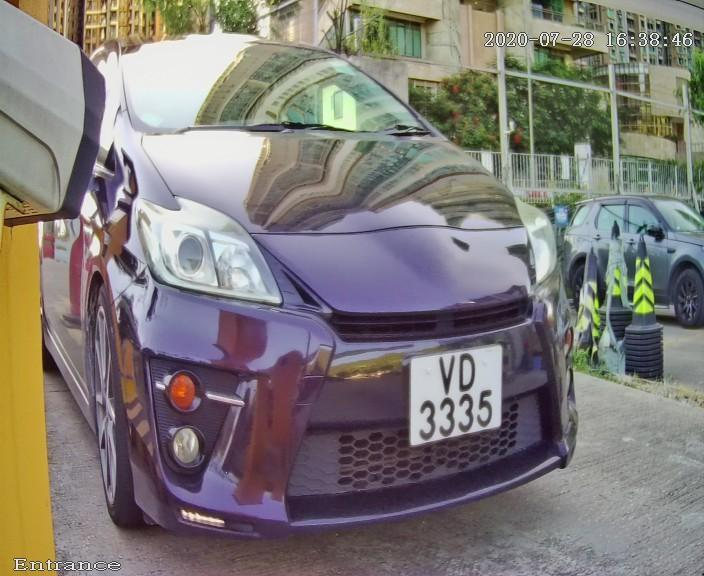privatecar: (48, 21, 626, 559)
